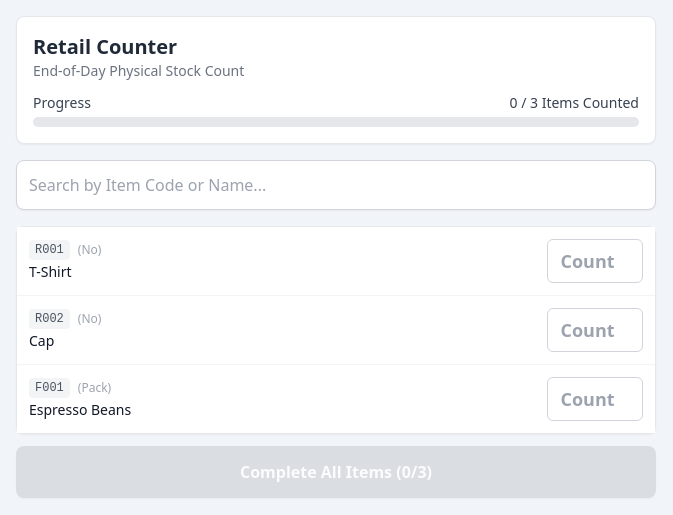
it: PhysicalStockEntry Component › Search Filter Test: Filtering items preserves quantities typed in hidden rows
This screenshot has width=673, height=515.
Step 1. Type "15" into the number field with id "stock-input-1" → point(595, 330), box [547,308,643,352]
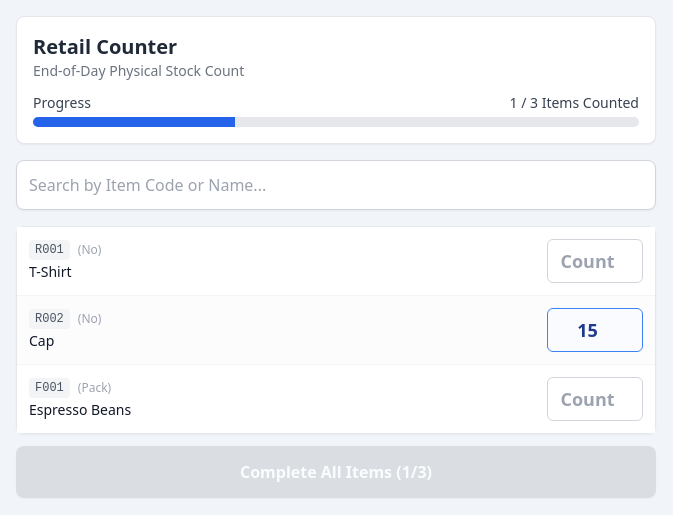
Step 2. Type "T-Shirt" into the field with placeholder "Search by Item Code or Name..." → point(336, 185), box [16,160,656,210]
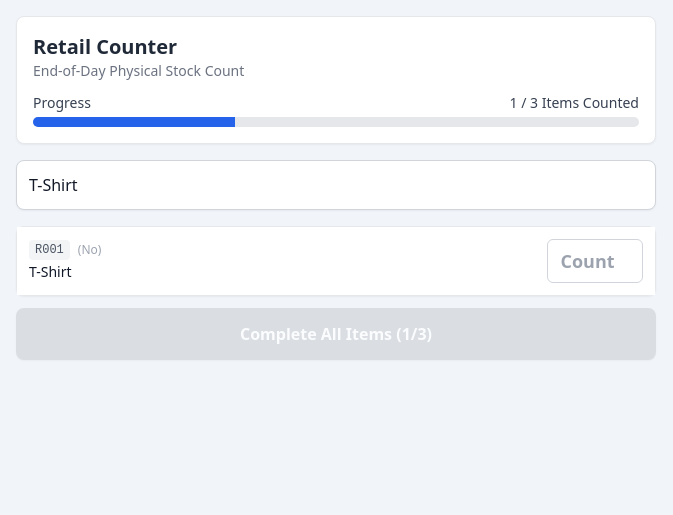
expect the text "T-Shirt" is shown: met, box [29,262,72,281]
expect the text "Cap" is gone: met
Step 3. Clear the field with placeholder "Search by Item Code or Name..." → point(336, 185), box [16,160,656,210]
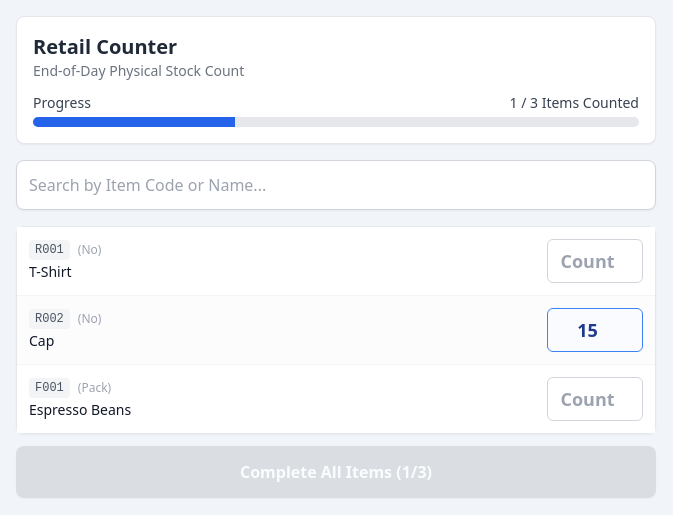
expect the number field with id "stock-input-1" holds "15": met, box [547,308,643,352]
